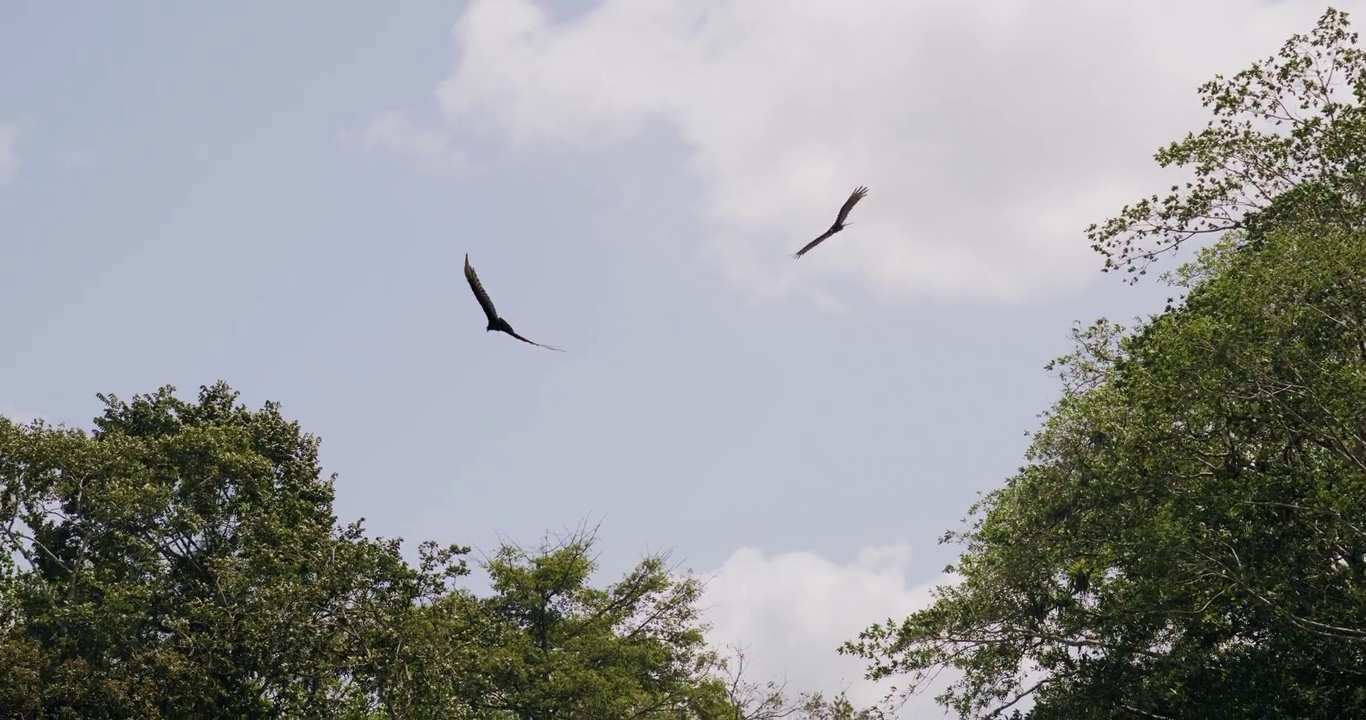bird: (464, 255, 553, 349), (794, 181, 870, 257)
